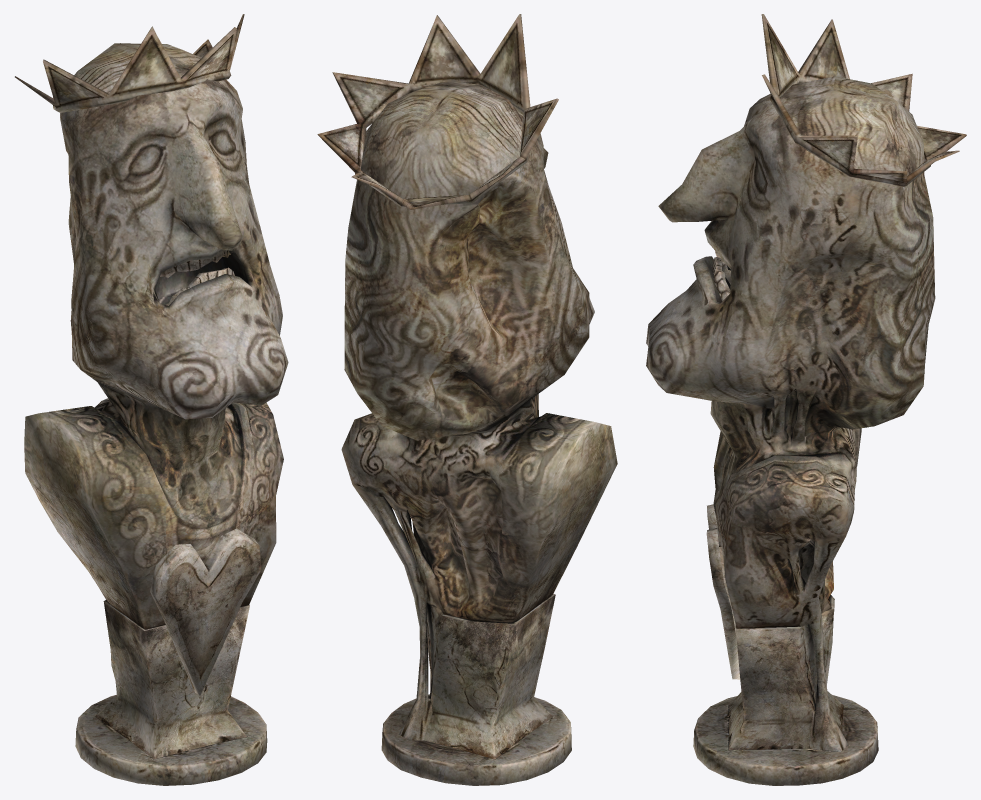
The model's file is Queen Statue A.obj.
3 views of the same model, side by side, from view 1: azimuth 30°, elevation 25°; view 2: azimuth 150°, elevation 25°; view 3: azimuth 270°, elevation 25° (orthographic). The views are drawn at different scales.
Parts seen in each view (by area): view 1: QStatuesA; view 2: QStatuesA; view 3: QStatuesA.
Part boxes in pixels (x1,y1,x2,y2): QStatuesA: (15,14,288,785); QStatuesA: (317,14,617,785); QStatuesA: (646,14,966,785).
Bounding box in the file's own units: 1.34 × 4.21 × 1.7.
1 material, 1 textured.
